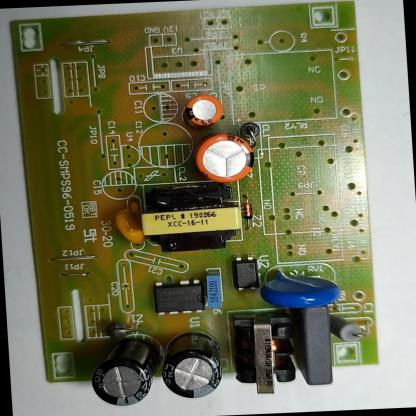Cap1: (195, 134, 255, 184)
Cap2: (182, 94, 226, 127)
Cap3: (159, 328, 224, 401)
Cap4: (89, 335, 166, 407)
MOSFET: (152, 278, 206, 315)
Mov: (259, 265, 342, 309)
Resistor: (329, 312, 365, 344)
Transformer: (138, 182, 243, 252), (228, 310, 301, 398)
